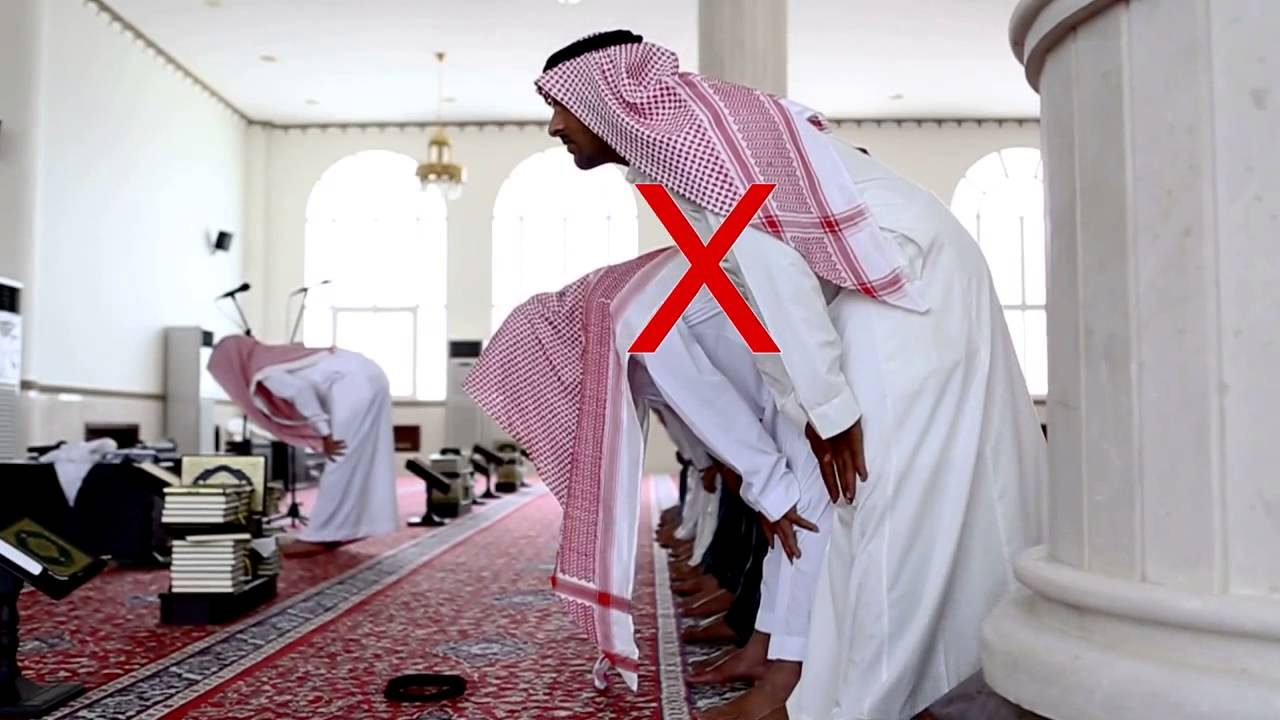ruku: (178, 328, 441, 572)
